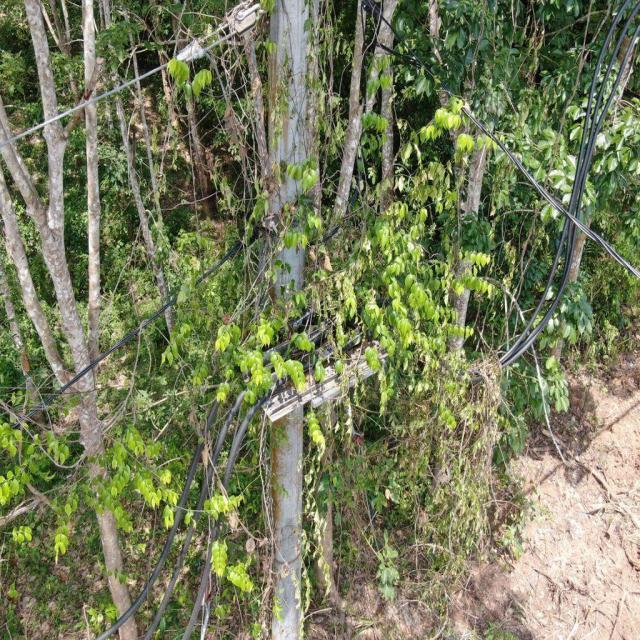critical vegetation: (220, 6, 444, 431)
